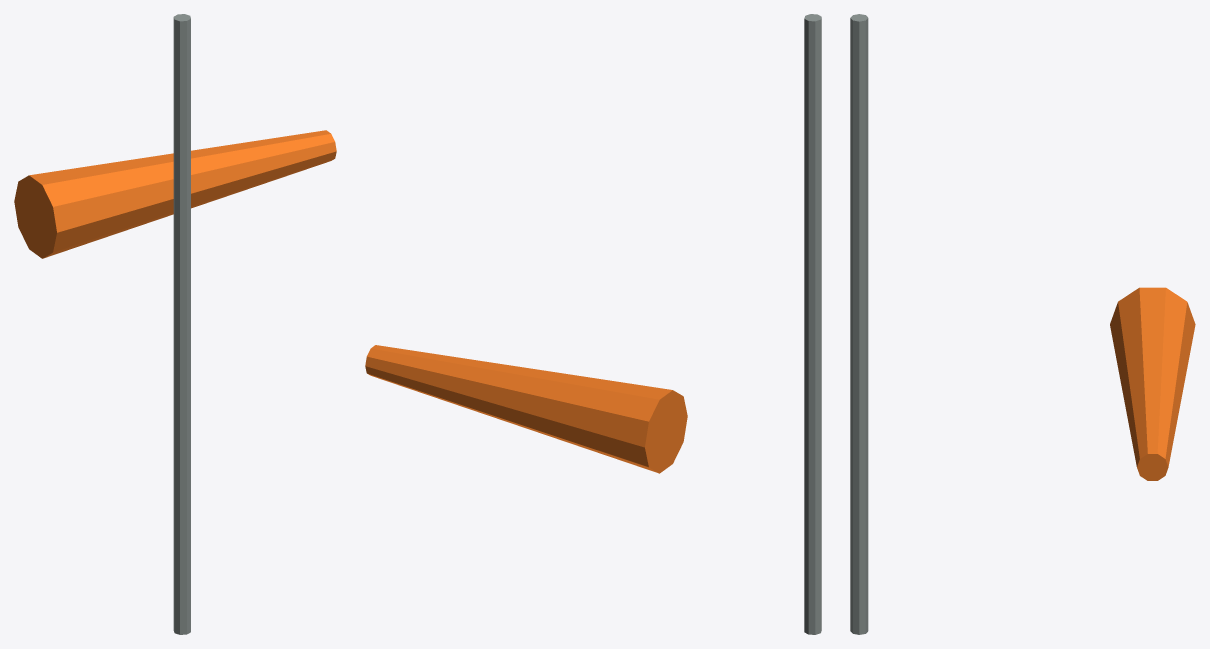
Rendered from airfield_windsock.glb.
The picture shows the model from 3 angles, left to right: view 1: azimuth 30°, elevation 25°; view 2: azimuth 150°, elevation 25°; view 3: azimuth 270°, elevation 25°; orthographic projection.
Visible parts, largest first — view 1: windsock.002, pole.001; view 2: windsock.002, pole.001; view 3: pole.001, windsock.002.
Part boxes in pixels (x1,y1,x2,y2): windsock.002: (14,130,336,258); pole.001: (173,14,190,634); windsock.002: (365,345,687,473); pole.001: (804,14,821,634); pole.001: (850,14,868,634); windsock.002: (1110,287,1195,480).
Size of the model in its own units: 3.08 by 6 by 3.06.
